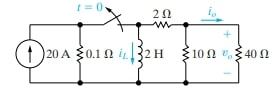coil: (134, 38, 146, 70)
current: (14, 37, 47, 70)
resistor: (177, 41, 193, 67), (74, 42, 86, 68), (149, 19, 175, 31), (233, 43, 243, 67)
